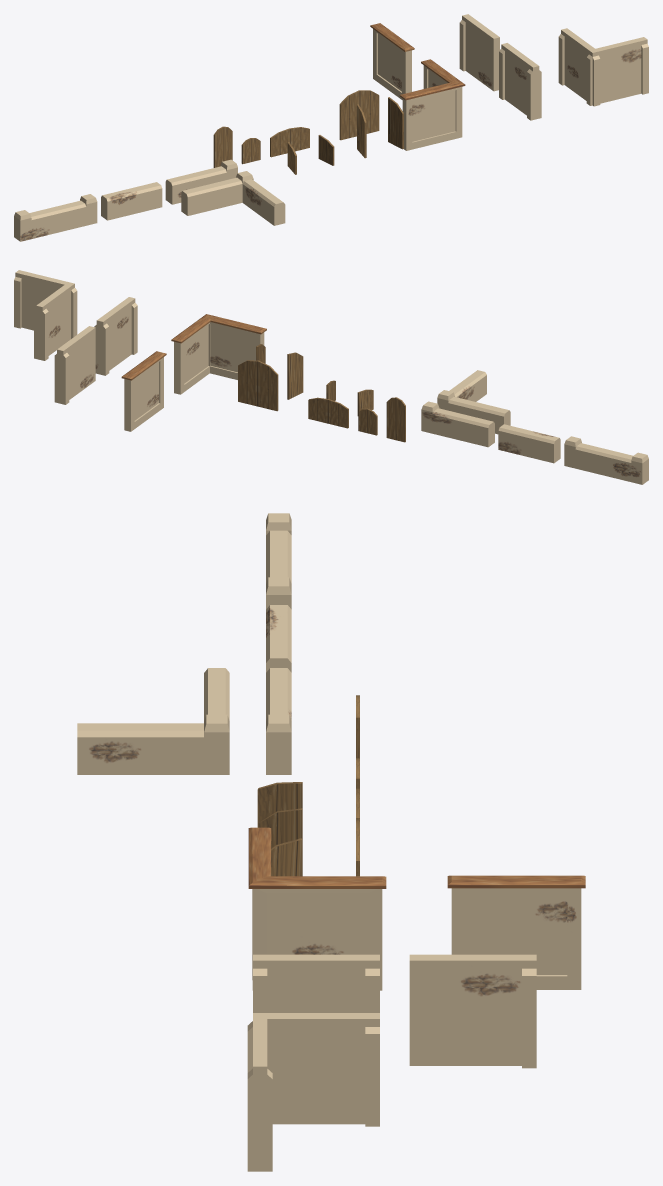
File: Walls.fbx
3 views of the same model, one above another, from view 1: azimuth 30°, elevation 25°; view 2: azimuth 150°, elevation 25°; view 3: azimuth 270°, elevation 25° (orthographic). The views are drawn at different scales.
Parts seen in each view (by area): view 1: Wall_Tall_Corner, Wall_Tall_Roof_Corner, Wall_Low_Corner, Wall_Tall_Double, Wall_Low_Double3, Wall_Tall_Single, Wall_Tall_Roof, Wall_Low, Gate_Tall_Closed, Wall_Low_Single, Gate_Tall_Open, Gate_Low_Wide_Closed (+3 smaller); view 2: Wall_Tall_Roof_Corner, Wall_Tall_Corner, Wall_Tall_Double, Wall_Tall_Roof, Wall_Tall_Single, Wall_Low_Double3, Wall_Low_Single, Wall_Low_Corner, Gate_Tall_Closed, Wall_Low, Gate_Low_Wide_Closed, Gate_Tall_Open (+3 smaller); view 3: Wall_Tall_Corner, Wall_Tall_Single, Wall_Tall_Roof, Wall_Tall_Roof_Corner, Wall_Low_Corner, Wall_Tall_Double, Wall_Low_Single, Wall_Low_Double3, Gate_Tall_Open, Wall_Low, Gate_Low_Wide_Open.
Part boxes in pixels (x1=…): Wall_Tall_Corner: x1=558, y1=28, x2=648, y2=106; Wall_Tall_Roof_Corner: x1=399, y1=59, x2=465, y2=150; Wall_Low_Corner: x1=181, y1=171, x2=285, y2=225; Wall_Tall_Double: x1=499, y1=43, x2=541, y2=120; Wall_Low_Double3: x1=14, y1=194, x2=97, y2=241; Wall_Tall_Single: x1=459, y1=14, x2=499, y2=91; Wall_Tall_Roof: x1=370, y1=23, x2=414, y2=99; Wall_Low: x1=101, y1=182, x2=162, y2=220; Gate_Tall_Closed: x1=339, y1=90, x2=379, y2=140; Wall_Low_Single: x1=165, y1=159, x2=237, y2=204; Gate_Tall_Open: x1=357, y1=97, x2=403, y2=158; Gate_Low_Wide_Closed: x1=270, y1=127, x2=309, y2=157; Wall_Tall_Roof_Corner: x1=171, y1=314, x2=266, y2=394; Wall_Tall_Corner: x1=14, y1=270, x2=77, y2=360; Wall_Tall_Double: x1=94, y1=297, x2=137, y2=375; Wall_Tall_Roof: x1=121, y1=351, x2=166, y2=431; Wall_Tall_Single: x1=54, y1=326, x2=95, y2=404; Wall_Low_Double3: x1=564, y1=436, x2=648, y2=484; Wall_Low_Single: x1=421, y1=401, x2=494, y2=447; Wall_Low_Corner: x1=437, y1=370, x2=510, y2=434; Gate_Tall_Closed: x1=238, y1=360, x2=278, y2=411; Wall_Low: x1=498, y1=424, x2=560, y2=463; Gate_Low_Wide_Closed: x1=308, y1=397, x2=348, y2=428; Gate_Tall_Open: x1=256, y1=344, x2=303, y2=399; Wall_Tall_Corner: x1=247, y1=1013, x2=379, y2=1171; Wall_Tall_Single: x1=409, y1=954, x2=536, y2=1068; Wall_Tall_Roof: x1=447, y1=875, x2=585, y2=989; Wall_Tall_Roof_Corner: x1=248, y1=827, x2=386, y2=990; Wall_Low_Corner: x1=77, y1=668, x2=229, y2=774; Wall_Tall_Double: x1=253, y1=954, x2=379, y2=1012; Wall_Low_Single: x1=266, y1=668, x2=291, y2=774; Wall_Low_Double3: x1=266, y1=513, x2=291, y2=609; Gate_Tall_Open: x1=257, y1=808, x2=302, y2=876; Wall_Low: x1=266, y1=605, x2=291, y2=672; Gate_Low_Wide_Open: x1=257, y1=782, x2=302, y2=823.
Size of the model in its own units: 116 by 9.64 by 40.94.
